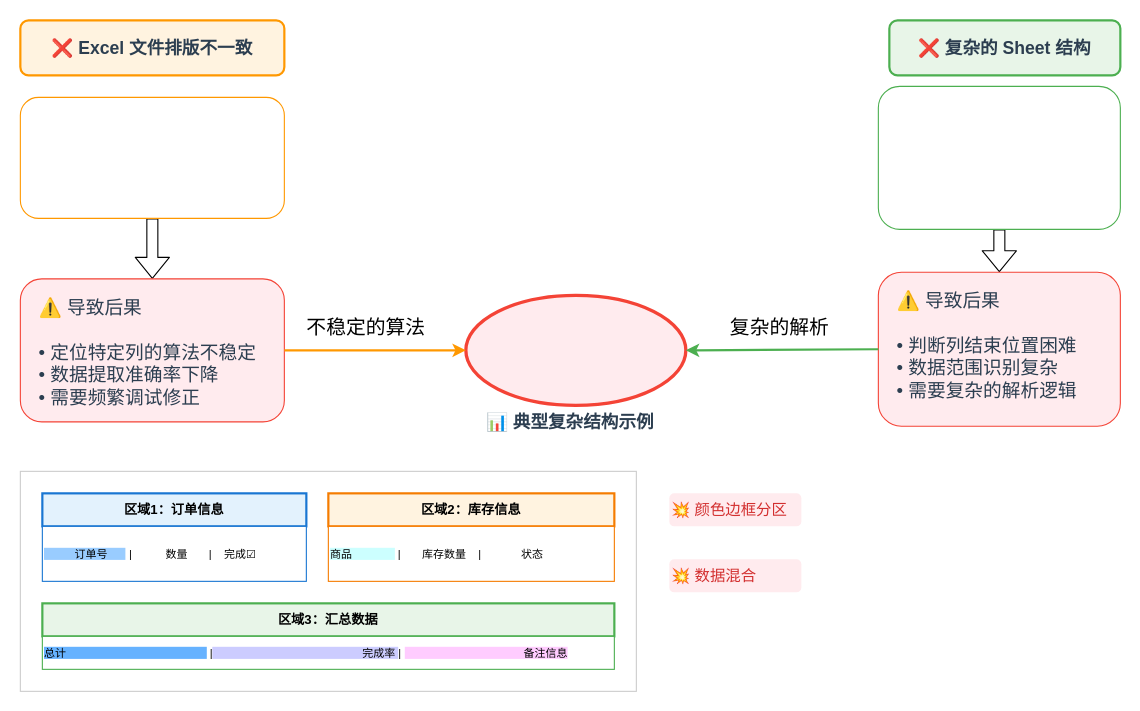
This 1140x711 diagram has some shape labels left out. Each missing label, with the centre of its shape:
"• 一个 sheet 包含多个逻辑区域 • 用颜色边框模拟分区 • 区域边界不规则 • 数据分布复杂" goes at pixel 998 157.
"• 列标题位置变化 • 数据起始行不固定 • 列顺序经常调整 • 合并单元格影响定位" goes at pixel 151 157.
"🚨 现实挑战" goes at pixel 575 349.
